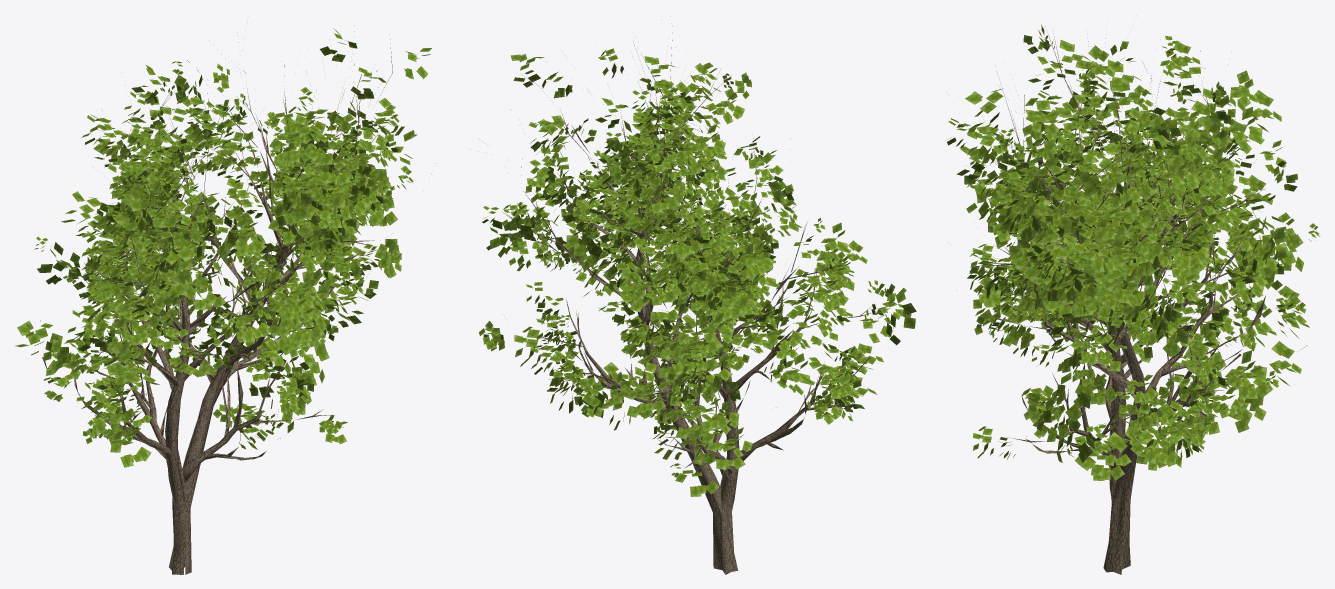
File: tree_v1.glb
3 views of the same model, side by side, from view 1: azimuth 30°, elevation 25°; view 2: azimuth 150°, elevation 25°; view 3: azimuth 270°, elevation 25° (orthographic). The views are drawn at different scales.
Parts seen in each view (by area): view 1: Tree_LOD_2; view 2: Tree_LOD_2; view 3: Tree_LOD_2.
Part boxes in pixels (<box>): Tree_LOD_2: <box>15,25,431,574</box>; Tree_LOD_2: <box>479,25,916,574</box>; Tree_LOD_2: <box>947,25,1320,574</box>.
Bounding box in the file's own units: 8.47 × 10.19 × 5.97.
Materials: 2 (2 with a texture image).
